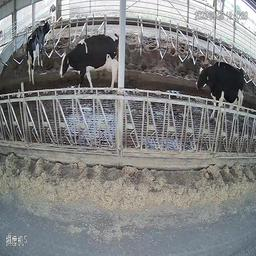cow: (53, 33, 116, 97), (193, 57, 240, 119), (24, 20, 52, 85)
